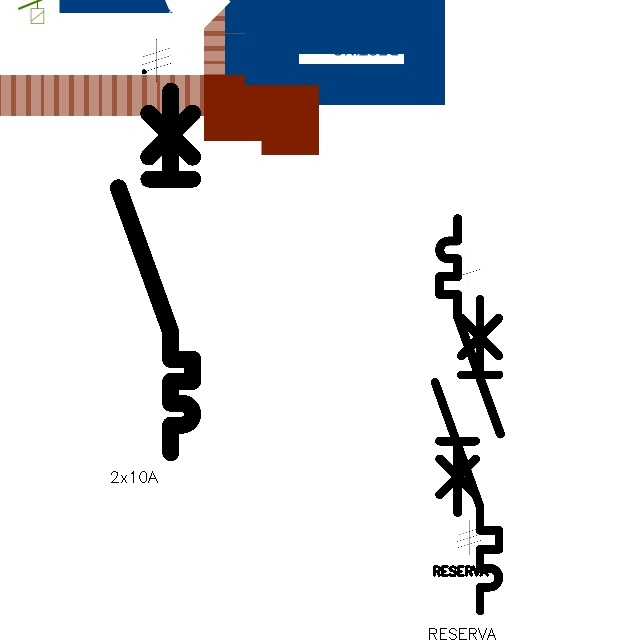interruptor_termomagnetico: (109, 81, 202, 461), (427, 291, 507, 619), (432, 211, 507, 520)
